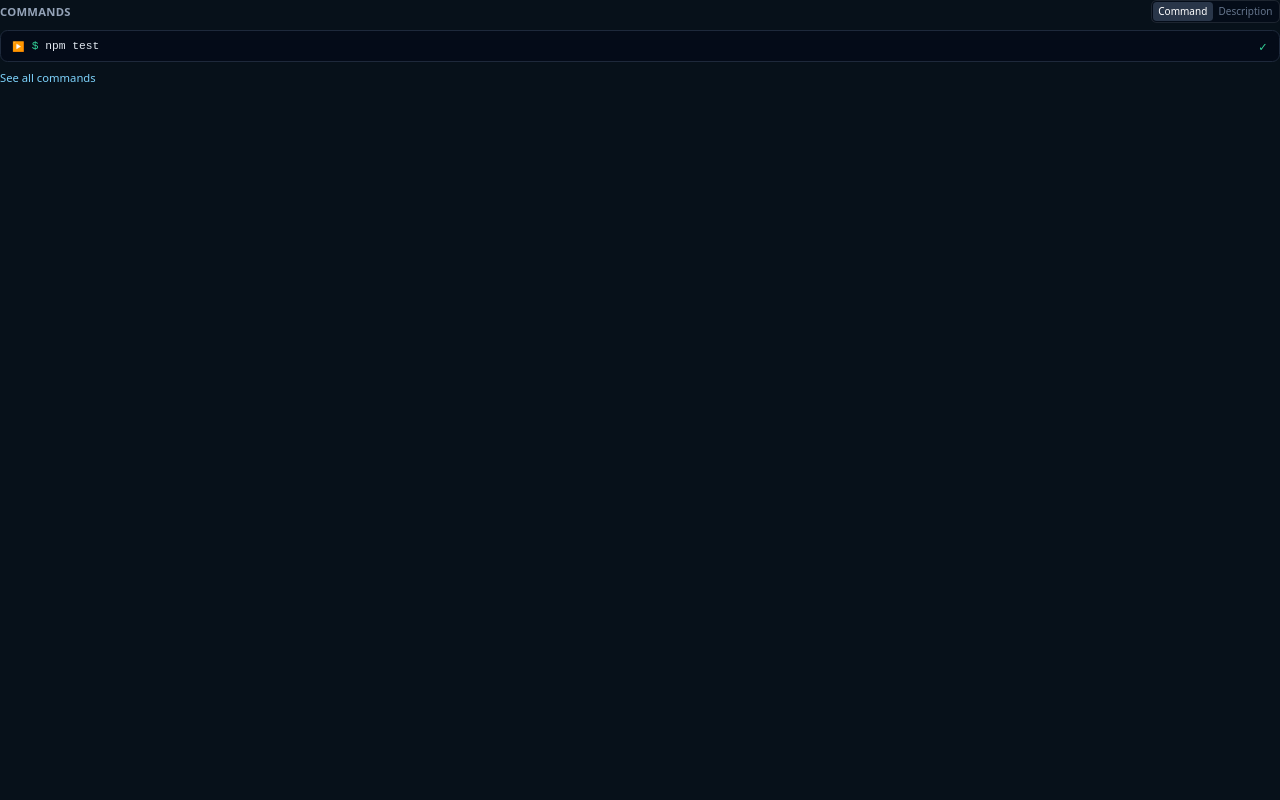
Test: RecentWorkActivity › toggles compact command labels between raw commands and descriptions
Expected: the element with test id "tool-command-summary-scroll" shows "npm test", x1=38 y1=40 x2=99 y2=52
Click the button "Description": x=1245, y=11 x1=1213 y1=2 x2=1278 y2=21
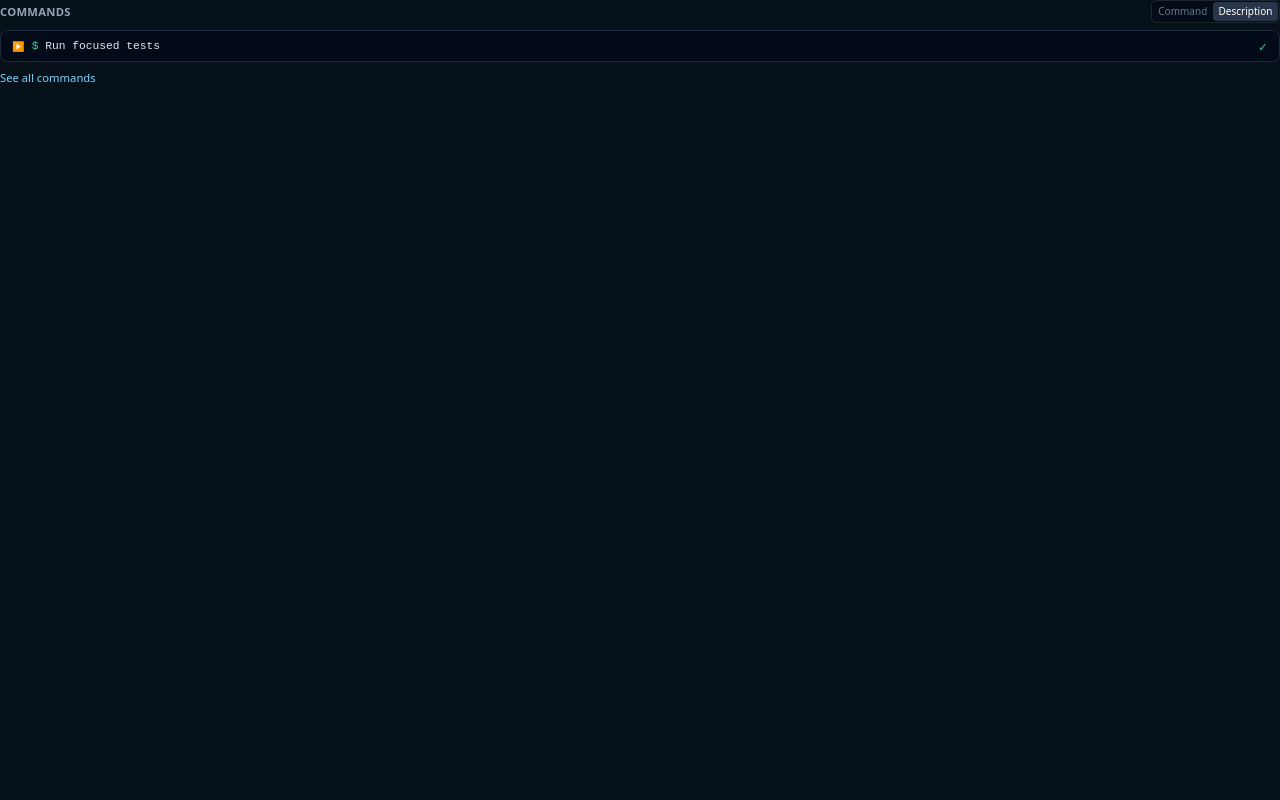
Result: the element with test id "tool-command-summary-scroll" shows "Run focused tests" at x1=38 y1=40 x2=160 y2=52
Click the button "Command": x=1183, y=11 x1=1153 y1=2 x2=1213 y2=21
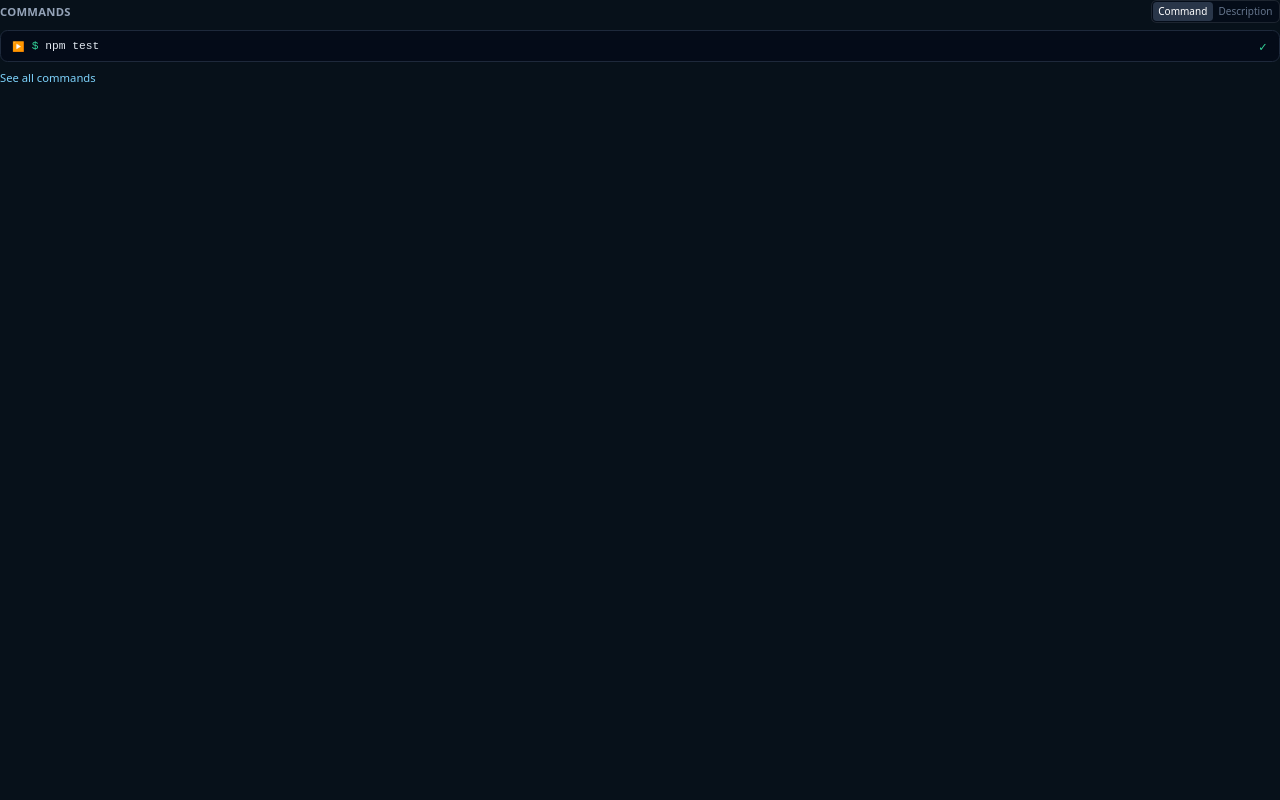
Result: the element with test id "tool-command-summary-scroll" shows "npm test" at x1=38 y1=40 x2=99 y2=52
